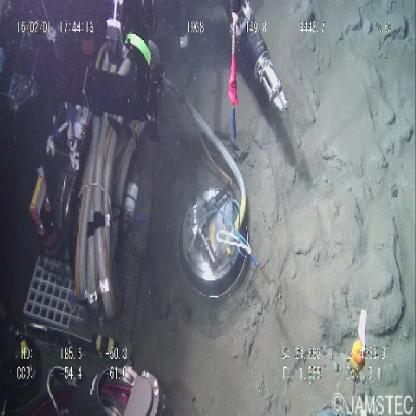Rov: (1, 3, 288, 415)
